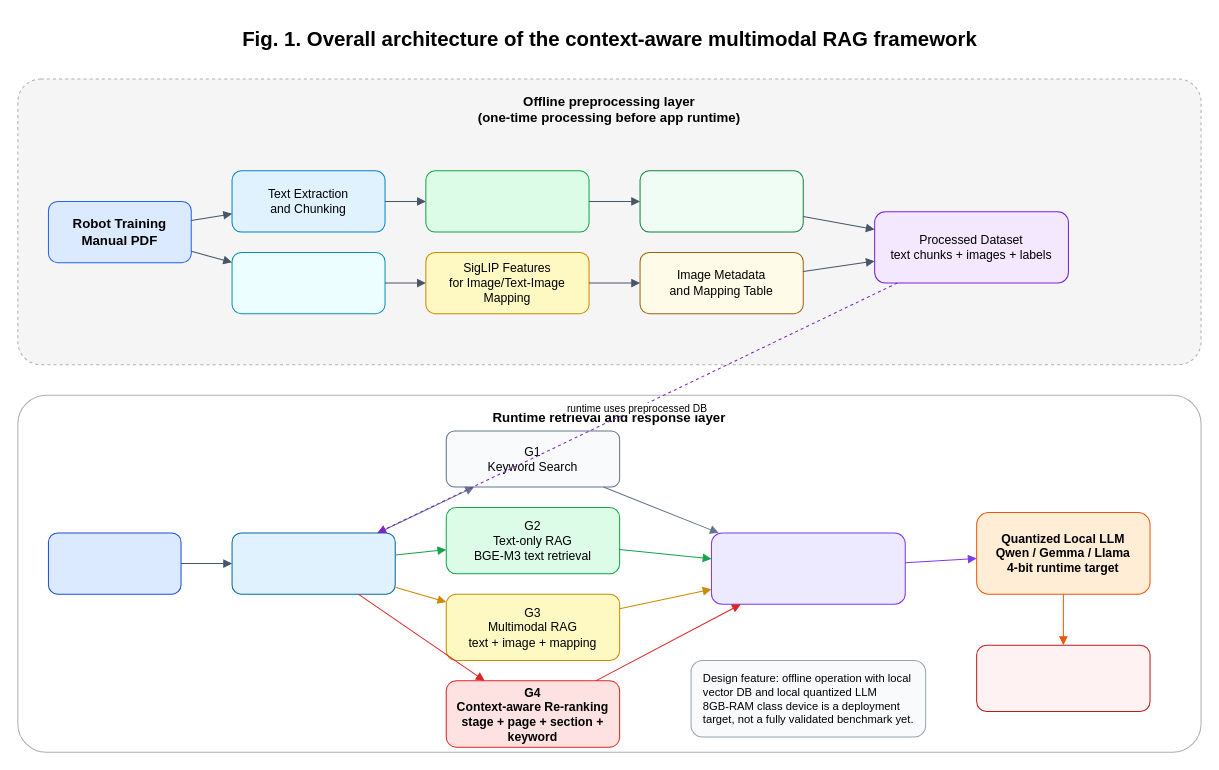
Some shapes in this 1219 by 770 pixel diagram are drawn without their labels. The shapes that lost their labels are listed below. From the top down, each one's centre as x and y in pixels, then its label:
[507,201]: BGE-M3 Text Embeddings
[721,201]: ChromaDB Text Collection
[308,282]: Image Extraction and Refinement
[114,563]: User Query
[313,563]: Evaluation Group G1 / G2 / G3 / G4
[807,568]: Top-k Evidence text evidence + image evidence
[1063,677]: Training Guidance Response
